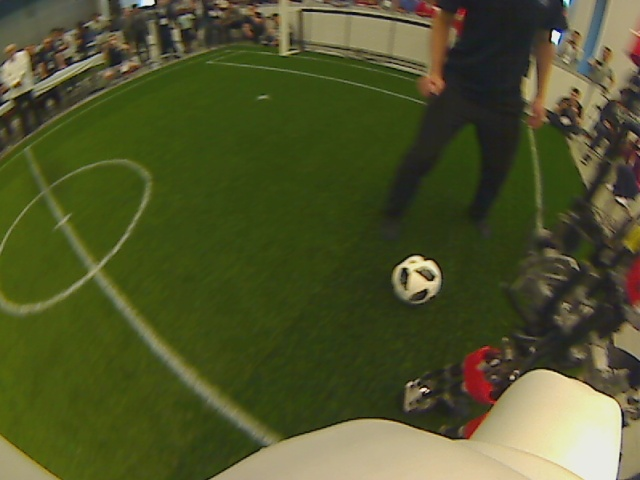ball: (391, 256, 442, 305)
